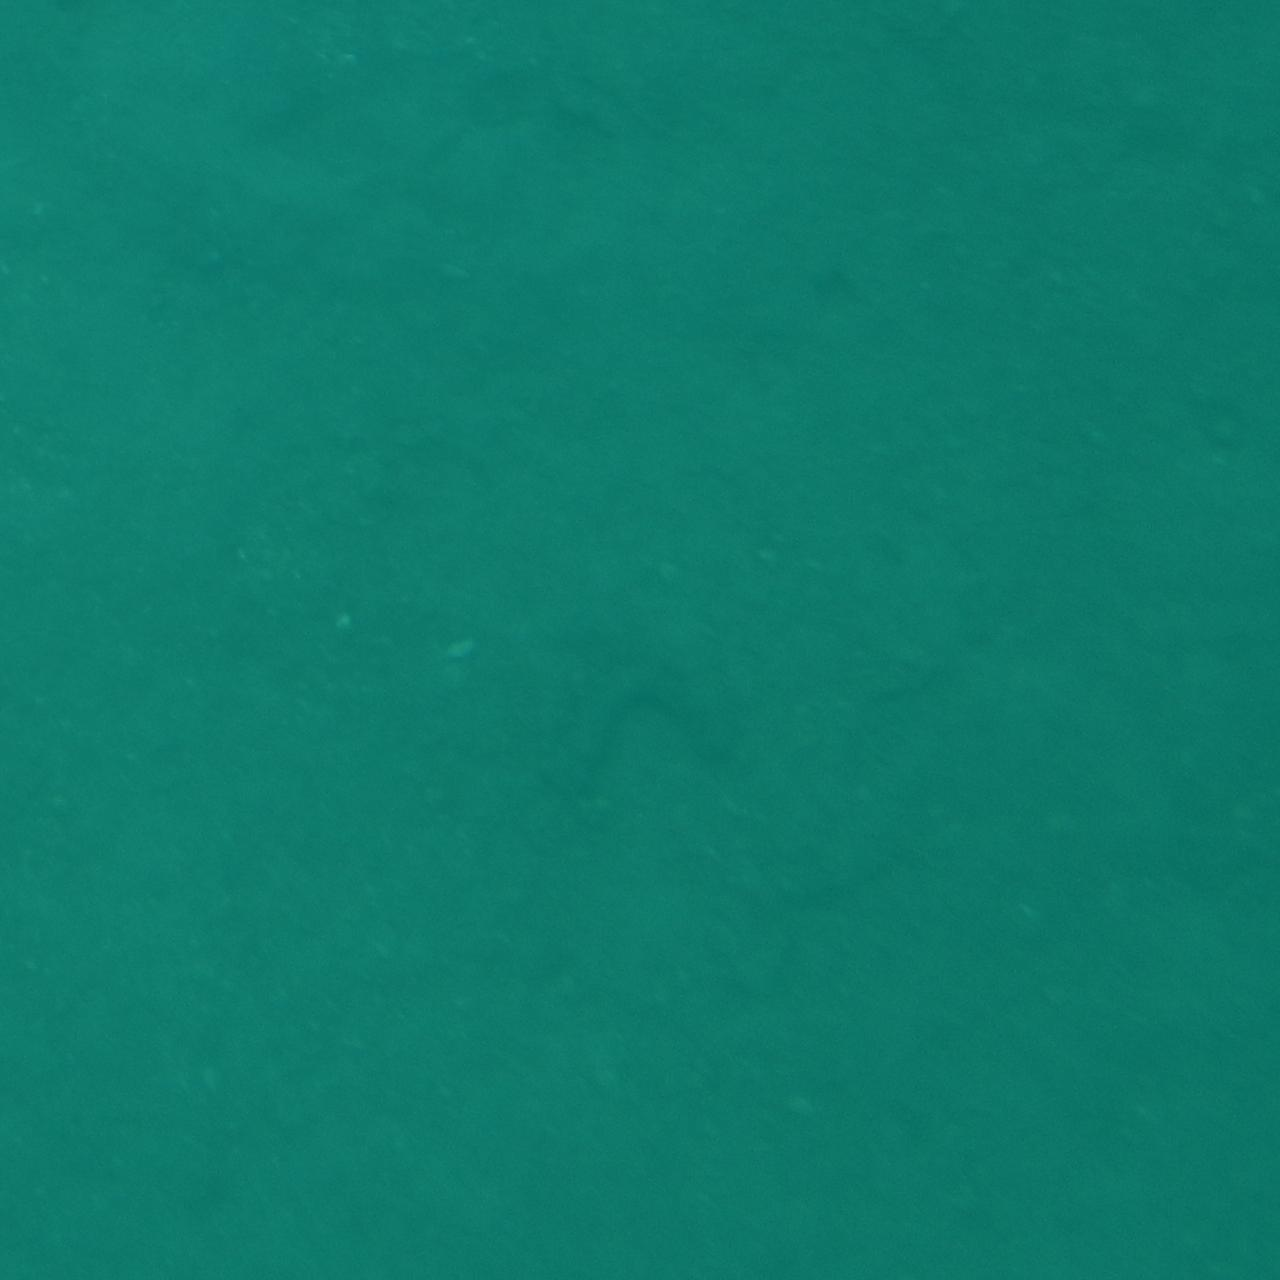Holothuria tubulosa: (532, 641, 748, 810)
